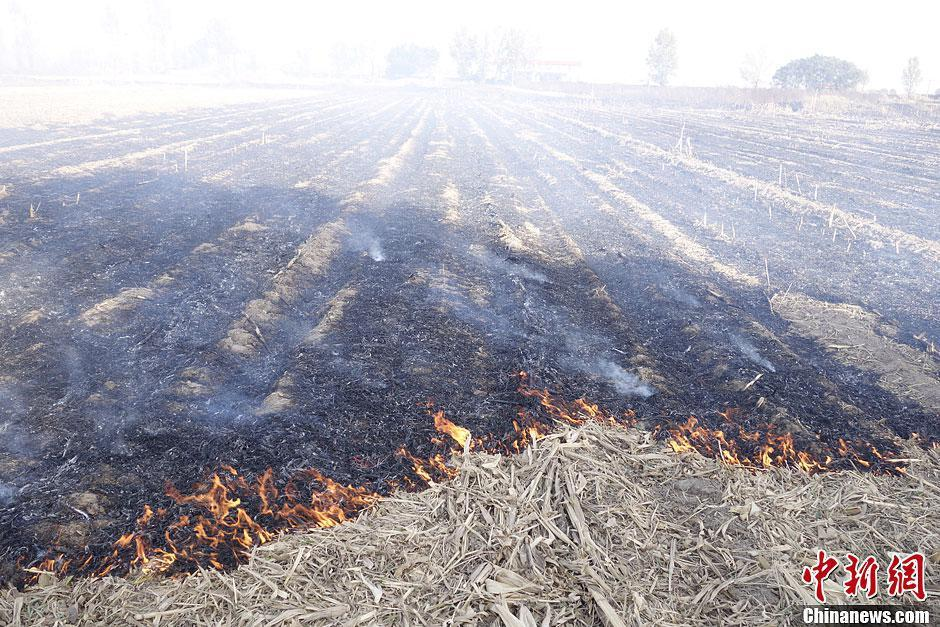fire: (400, 380, 907, 493), (35, 468, 392, 579)
